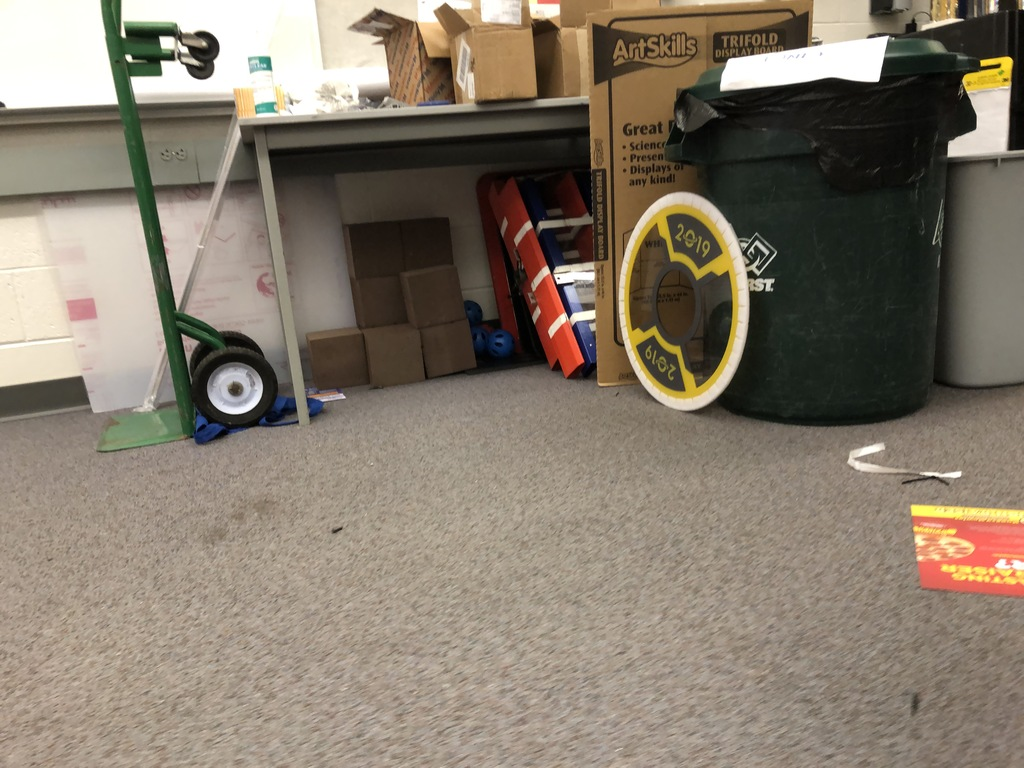hatch_panel: (607, 168, 744, 430)
